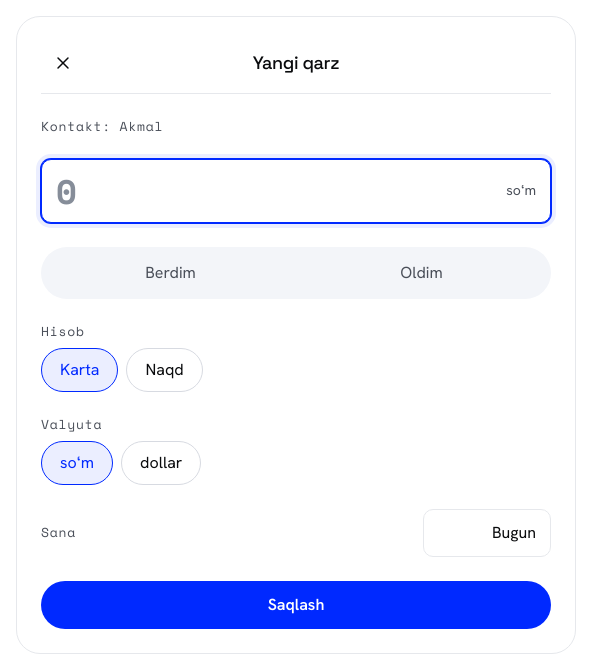
Test: terish qoidalari (mezon 19, 20; 0033) › dollardan soʻmga oʻtilsa tiyin kesiladi va yordam qatori chiqadi
The width and height of the screenshot is (593, 656).
Click the button "dollar" at (161, 463), box left=121, top=441, right=201, bottom=485
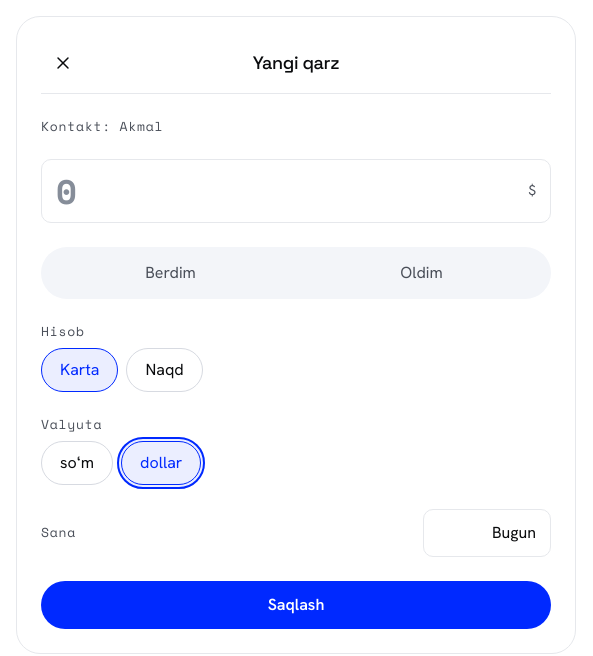
Type "12,50" into the field named "Summa" at (288, 191), box left=56, top=160, right=520, bottom=222
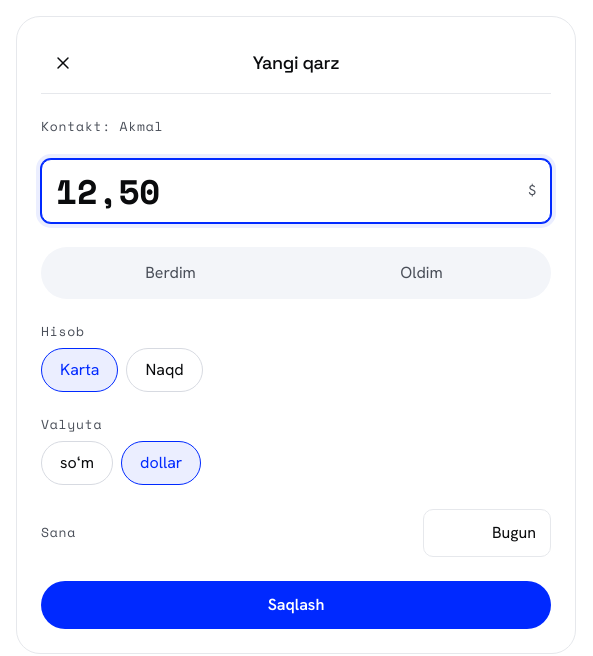
Click the button "soʻm" at (77, 463), box left=41, top=441, right=113, bottom=485
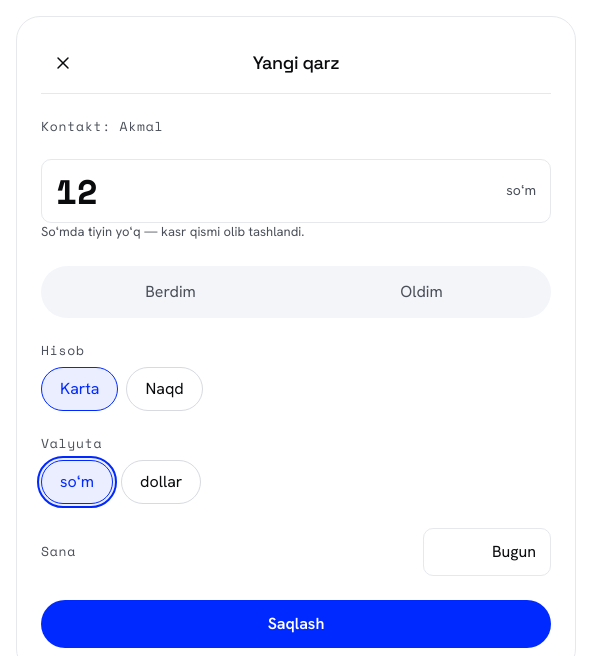
Check: the field named "Summa" holds "12", box left=56, top=160, right=498, bottom=222
Check: the text "Soʻmda tiyin yoʻq — kasr qismi olib tashlandi." is shown, box left=41, top=223, right=304, bottom=240
